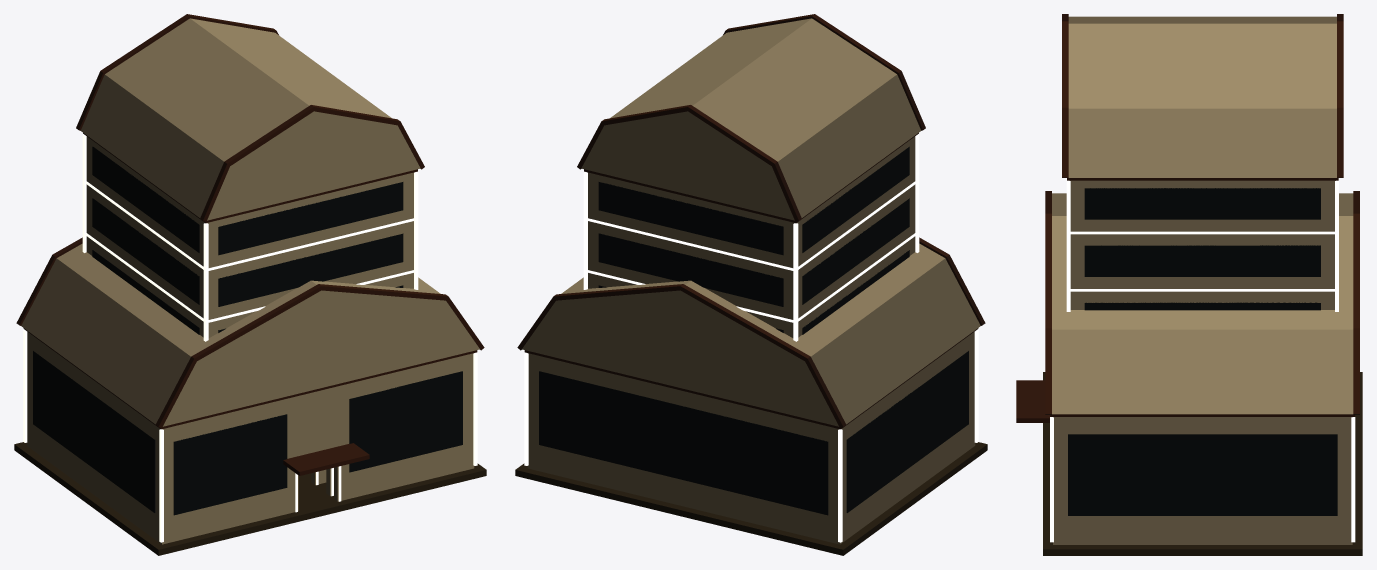
File: shaddai_realm_buildings_meadow_v01.glb
3 renders of one model, left to right at view 1: azimuth 30°, elevation 25°; view 2: azimuth 150°, elevation 25°; view 3: azimuth 270°, elevation 25°, orthographic. The views are drawn at different scales.
Parts seen in each view (by area): view 1: shaddai_bld_meadow_hall, shaddai_bld_meadow_tower; view 2: shaddai_bld_meadow_hall, shaddai_bld_meadow_tower; view 3: shaddai_bld_meadow_hall, shaddai_bld_meadow_tower.
Part boxes in pixels (left/top/right/bottom): shaddai_bld_meadow_hall: left=14, top=237, right=486, bottom=555; shaddai_bld_meadow_tower: left=76, top=14, right=424, bottom=507; shaddai_bld_meadow_hall: left=515, top=237, right=987, bottom=555; shaddai_bld_meadow_tower: left=577, top=14, right=925, bottom=341; shaddai_bld_meadow_hall: left=1016, top=191, right=1362, bottom=555; shaddai_bld_meadow_tower: left=1033, top=14, right=1343, bottom=422.
Bounding box in the file's own units: 25.2 × 29.56 × 20.8.
